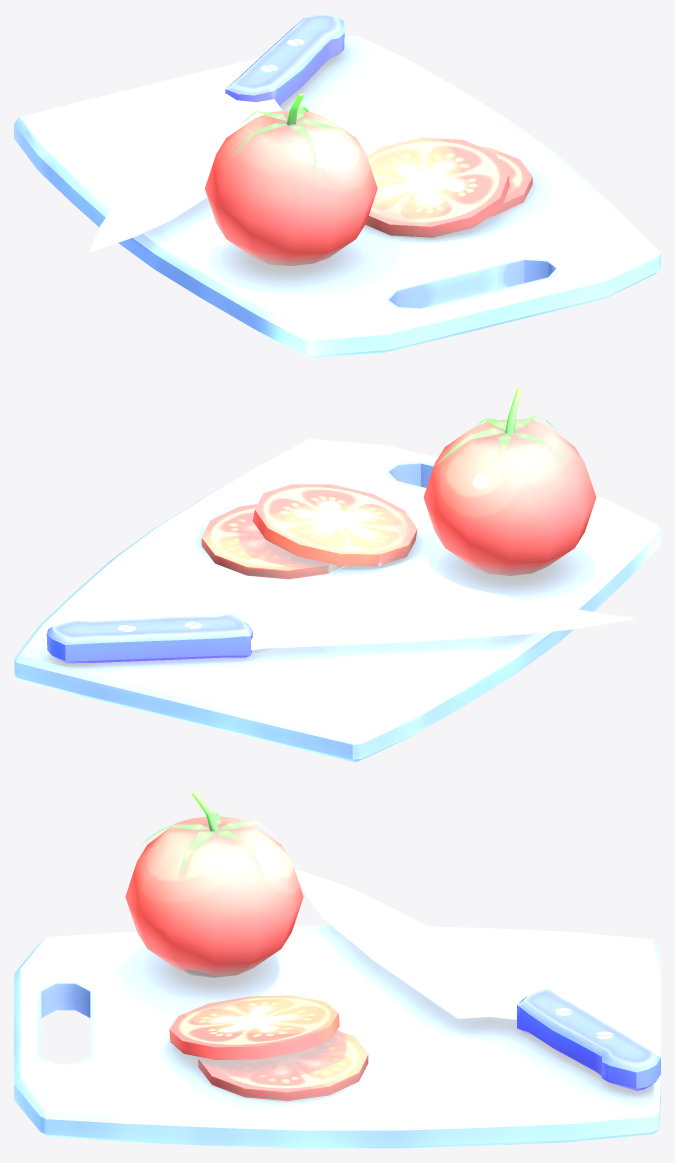
3 renders of one model, top to bottom at view 1: azimuth 30°, elevation 25°; view 2: azimuth 150°, elevation 25°; view 3: azimuth 270°, elevation 25°, orthographic. The views are drawn at different scales.
Visible parts, largest first — view 1: obj.004, obj.001, obj.003, obj, obj.005; view 2: obj.004, obj.003, obj.001, obj, obj.005; view 3: obj.004, obj.001, obj.003, obj, obj.005.
Part boxes in pixels (box(x1,y1,x2,y2)): obj.004: box(14, 35, 660, 358); obj.001: box(205, 93, 377, 265); obj.003: box(89, 14, 344, 252); obj: box(365, 137, 509, 237); obj.005: box(479, 146, 532, 216); obj.004: box(14, 439, 660, 762); obj.003: box(46, 601, 633, 663); obj.001: box(423, 387, 596, 575); obj: box(253, 484, 417, 565); obj.005: box(201, 504, 345, 579); obj.004: box(14, 925, 660, 1148); obj.001: box(125, 791, 303, 977); obj.003: box(295, 868, 660, 1090); obj: box(169, 995, 339, 1059); obj.005: box(198, 1030, 368, 1101).
Size of the model in its own units: 3.49 by 1.39 by 4.
